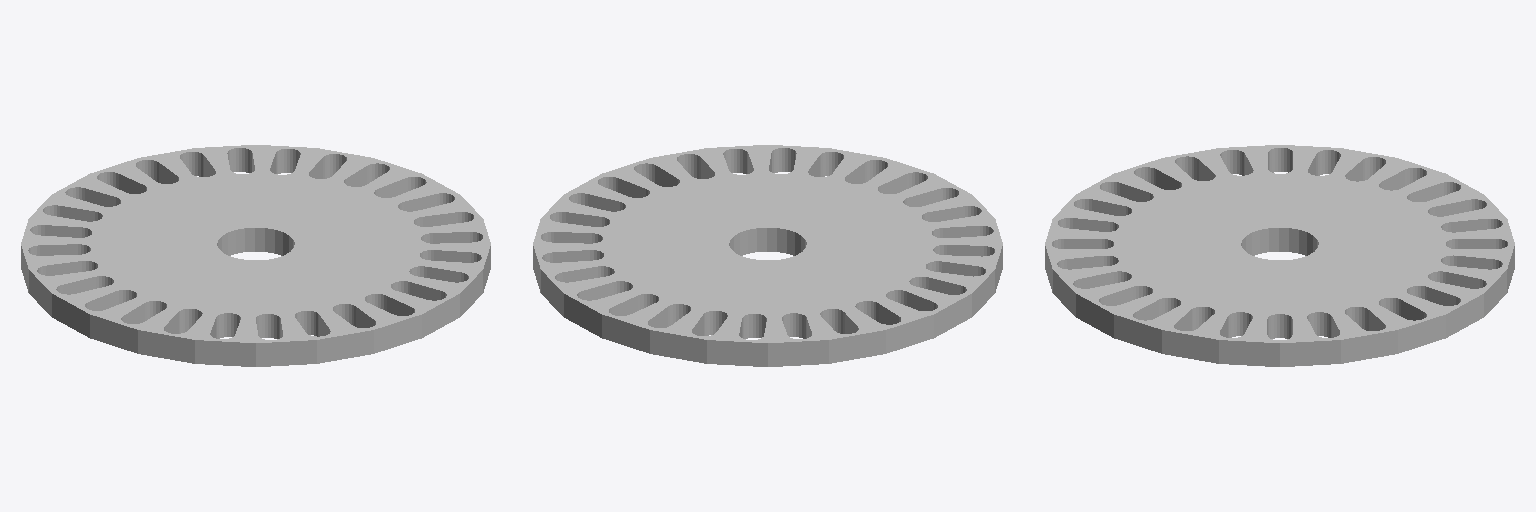
The model's file is disk_tightener.obj.
The picture shows the model from 3 angles: view 1: azimuth 30°, elevation 25°; view 2: azimuth 150°, elevation 25°; view 3: azimuth 270°, elevation 25°; orthographic projection.
Parts seen in each view (by area): view 1: Mesh1 Model; view 2: Mesh1 Model; view 3: Mesh1 Model.
Boxes of the visible parts, x1=… form: Mesh1 Model: x1=21, y1=145, x2=490, y2=366; Mesh1 Model: x1=533, y1=145, x2=1002, y2=366; Mesh1 Model: x1=1045, y1=145, x2=1514, y2=366.
Size of the model in its own units: 21.12 by 1.19 by 21.12.